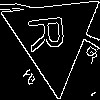R: (28, 12, 74, 53)
